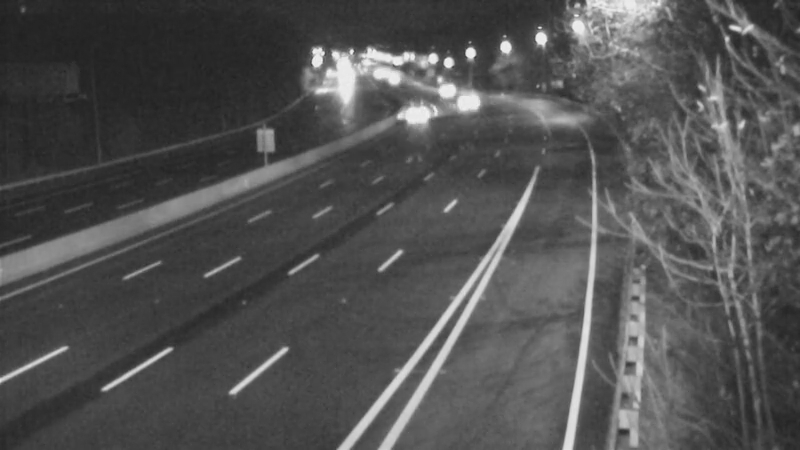vehicle: (363, 54, 413, 104), (416, 64, 466, 114), (440, 75, 490, 125), (397, 92, 447, 142), (318, 60, 368, 110)
